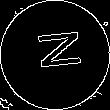N_W: (28, 33, 82, 77)
